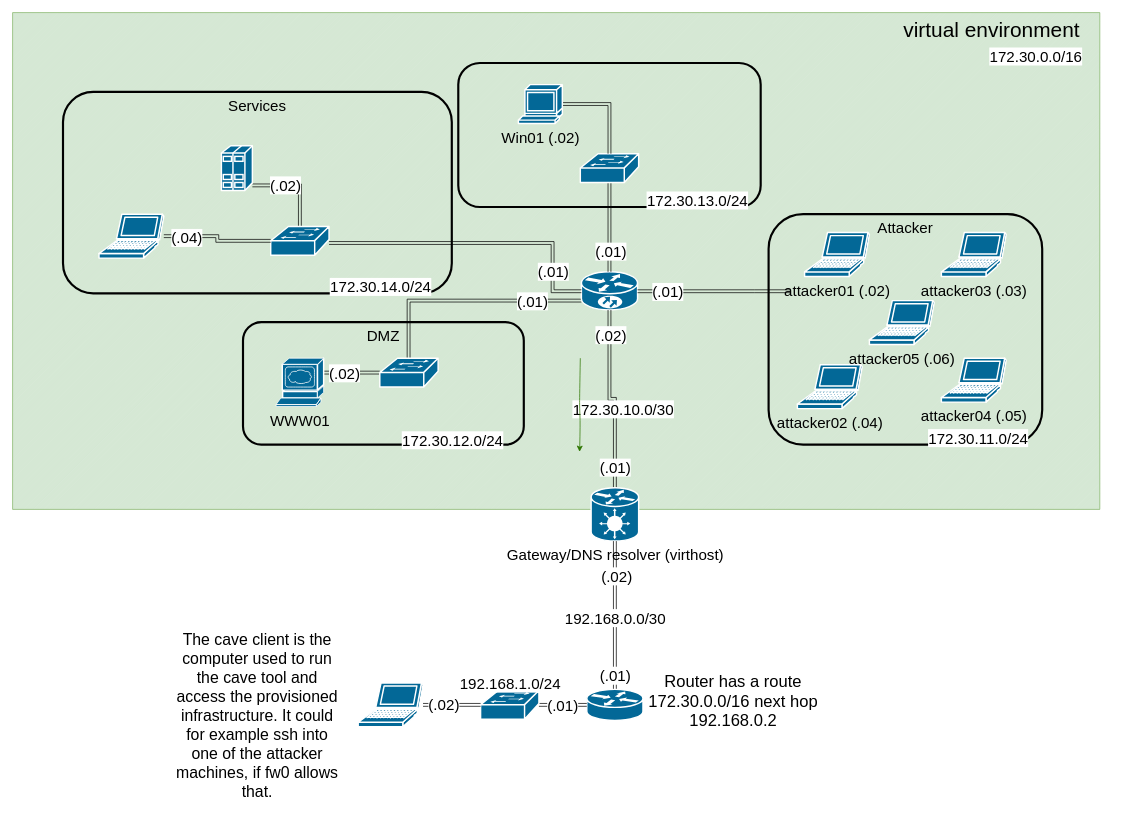
Some shapes in this 1127 by 814 pixel diagram are drawn without their labels. Here are the shapes that lost their labels. From the top down, the box of each, then its label:
(457, 62, 761, 208): Intern
(220, 145, 253, 191): collab01
(98, 213, 164, 258): administrator01
(580, 271, 638, 310): FW01
(357, 682, 423, 727): cave client
(586, 688, 643, 721): router
